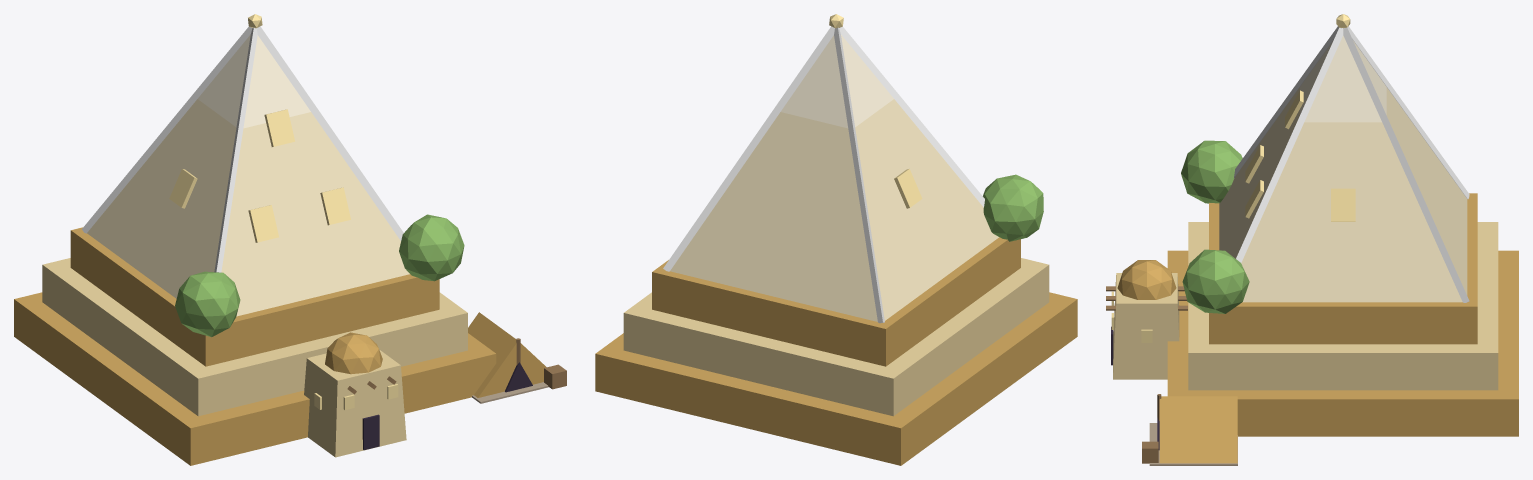
Rendered from sand-landmark-s3.glb.
3 renders of one model, left to right at view 1: azimuth 30°, elevation 25°; view 2: azimuth 150°, elevation 25°; view 3: azimuth 270°, elevation 25°, orthographic.
Visible parts, largest first — view 1: sand-landmark-s3; view 2: sand-landmark-s3; view 3: sand-landmark-s3.
Part boxes in pixels (box(x1,y1,x2,y2)): sand-landmark-s3: box(14, 14, 566, 465); sand-landmark-s3: box(595, 14, 1077, 465); sand-landmark-s3: box(1106, 14, 1518, 465).
Bounding box in the file's own units: 2.04 × 1.86 × 2.
